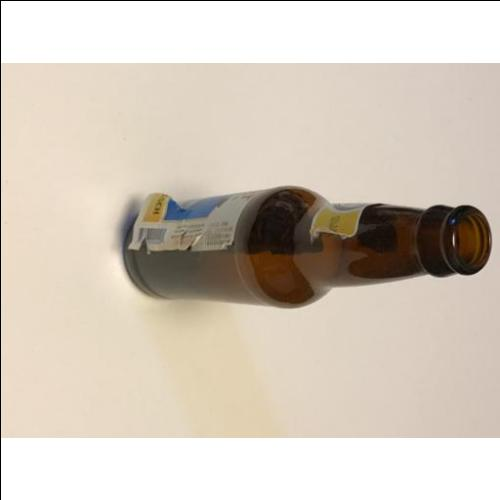glass: (125, 182, 491, 308)
